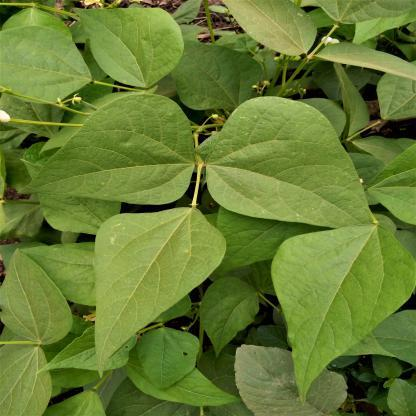Beans_Rust: (92, 208, 224, 380), (206, 95, 378, 226), (16, 95, 196, 204)
